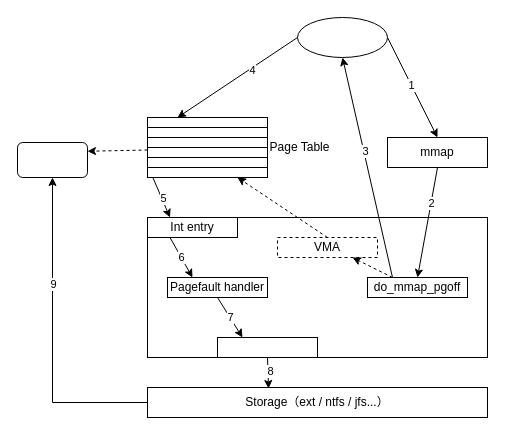
This 505x435 diagram has some shape labels left out. Each missing label, with the box of its shape:
App: (296, 16, 388, 58)
File System: (216, 336, 318, 358)
Page Cache: (16, 142, 88, 178)
